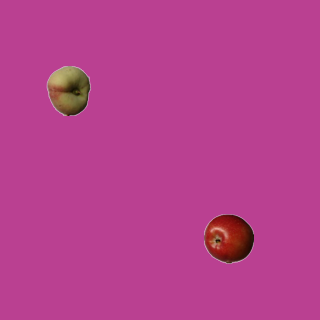Apple Braeburn: (203, 213, 253, 263)
Peach Flat: (43, 65, 93, 115)
